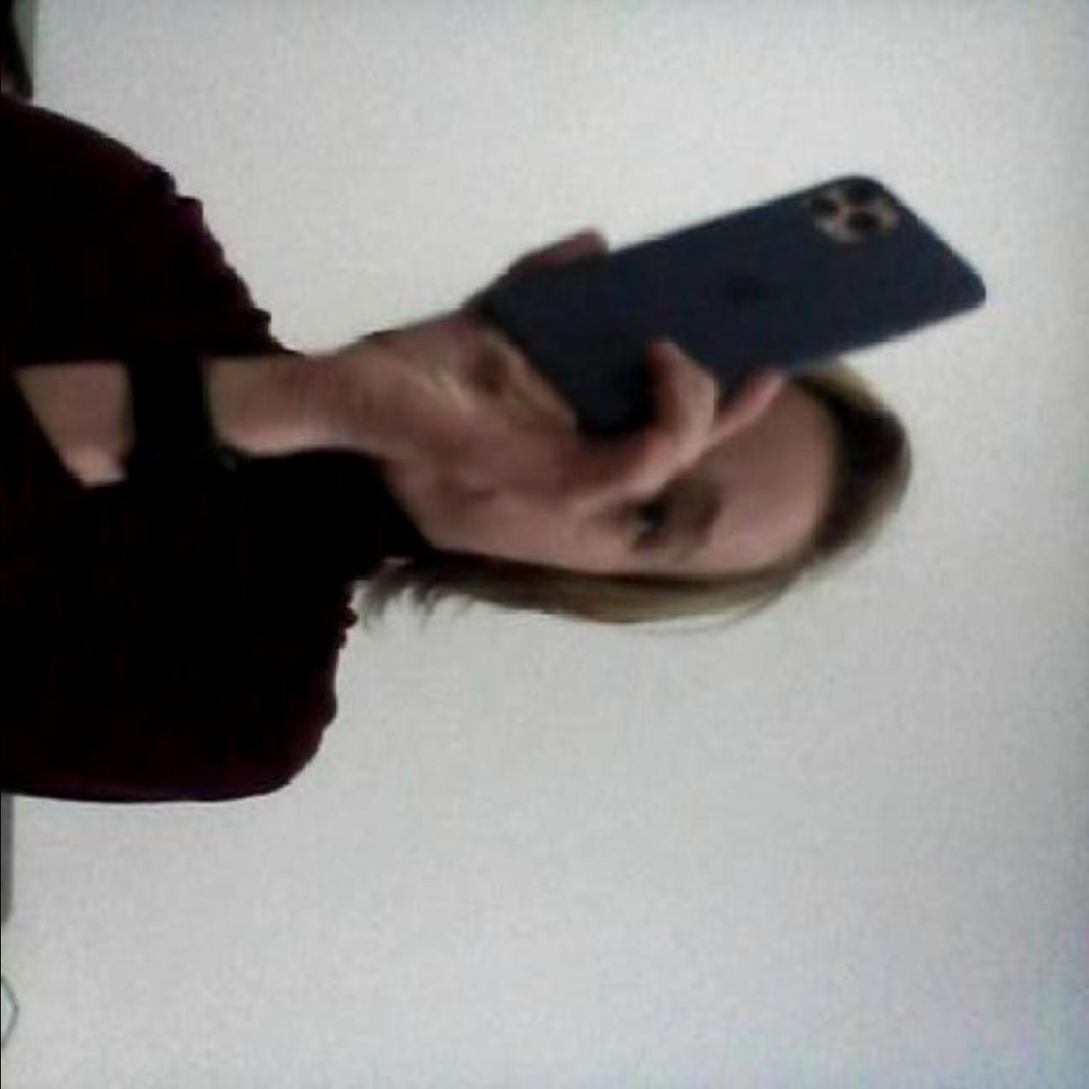phone: (465, 154, 994, 464)
